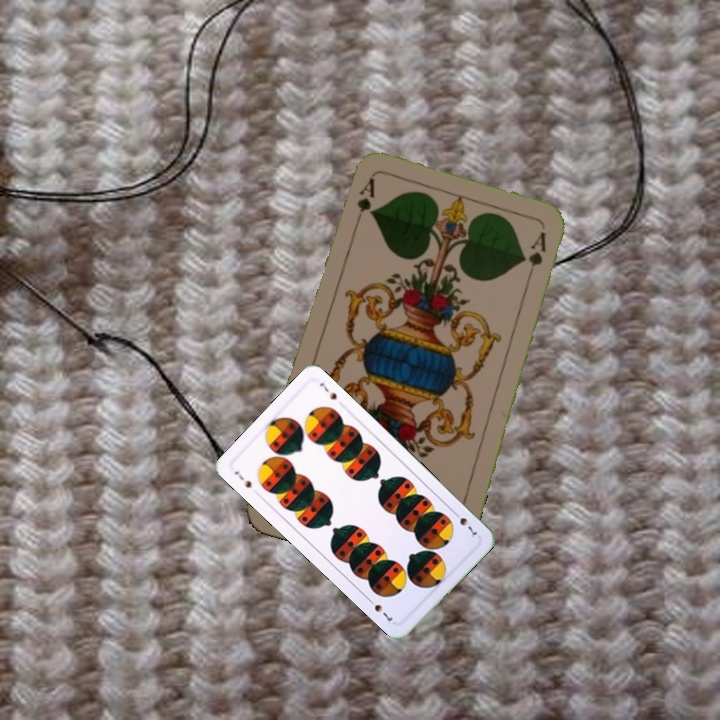GA: (350, 174, 378, 231)
S7: (449, 507, 479, 540), (230, 467, 254, 490)
